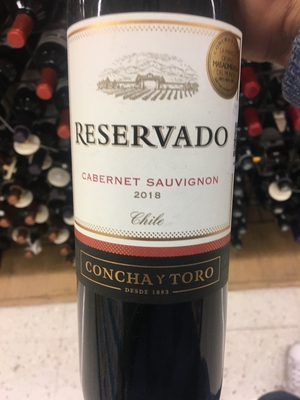reservado cabernet sauvignon: (60, 1, 245, 400)
